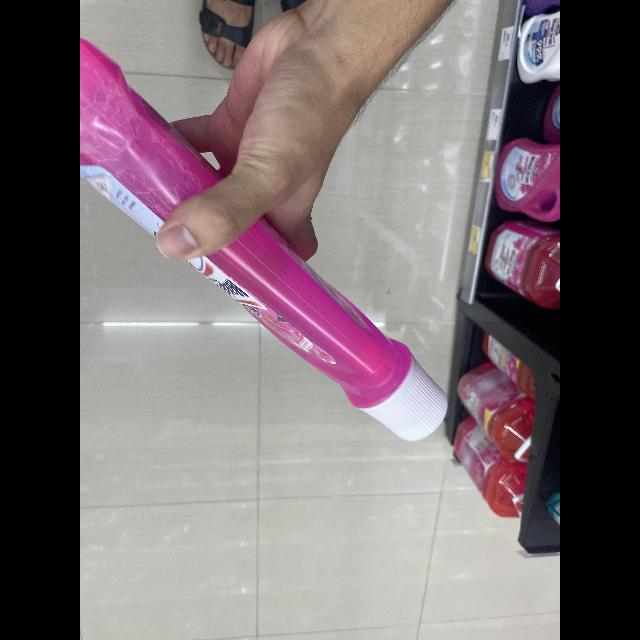chemical_plastic_gallon: (80, 28, 460, 448)
